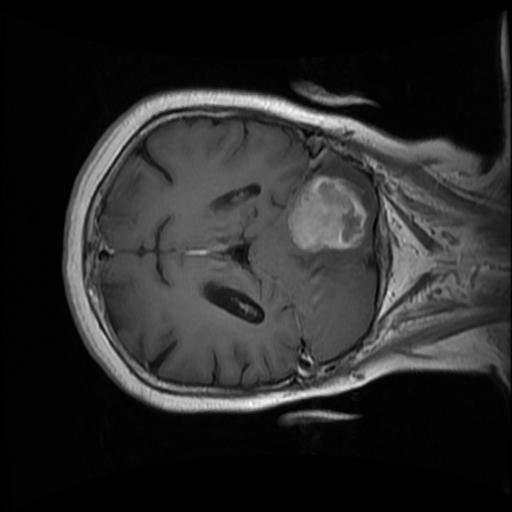meningioma: (286, 176, 368, 251)
